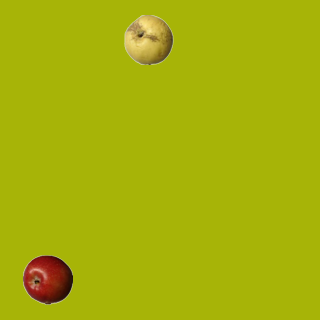Apple Braeburn: (22, 254, 72, 304)
Apple Golden 1: (123, 14, 173, 64)
